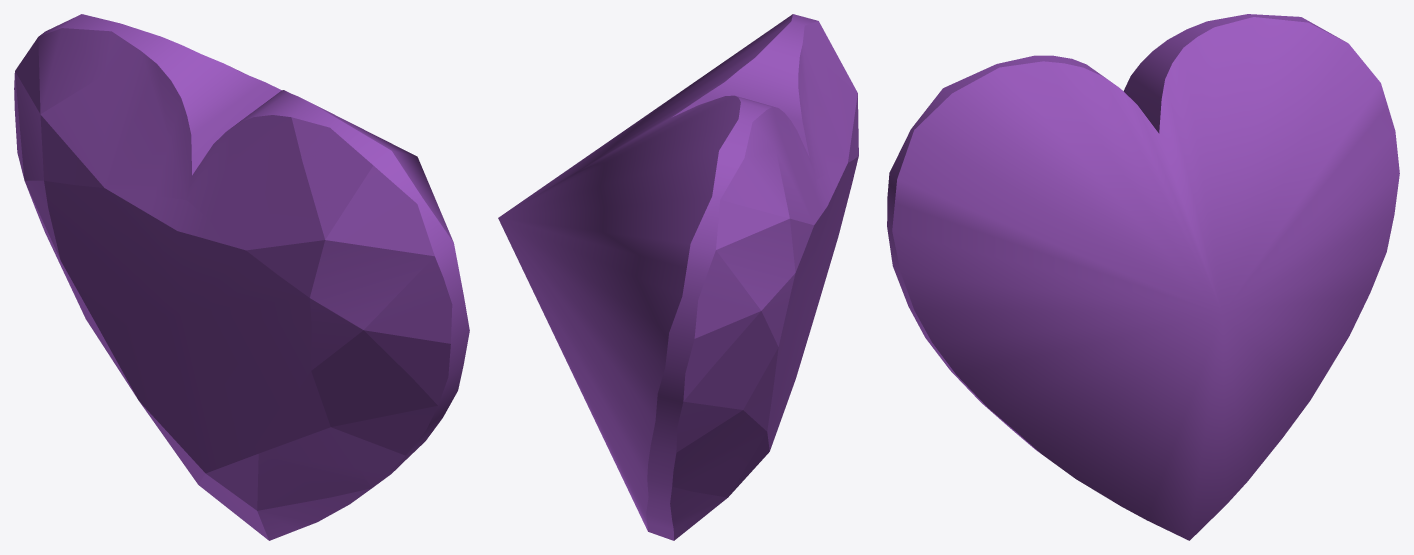
The model's file is TL5_8shapes_heart_Classic_Stone.001 2.glb.
3 views of the same model, side by side, from view 1: azimuth 30°, elevation 25°; view 2: azimuth 150°, elevation 25°; view 3: azimuth 270°, elevation 25° (orthographic). The views are drawn at different scales.
Parts seen in each view (by area): view 1: TL5_8shapes_heart_Classic_Stone.001; view 2: TL5_8shapes_heart_Classic_Stone.001; view 3: TL5_8shapes_heart_Classic_Stone.001.
Boxes of the visible parts, left/top/right/bottom form: TL5_8shapes_heart_Classic_Stone.001: left=14, top=14, right=469, bottom=540; TL5_8shapes_heart_Classic_Stone.001: left=498, top=14, right=858, bottom=540; TL5_8shapes_heart_Classic_Stone.001: left=887, top=14, right=1399, bottom=540.
Size of the model in its own units: 0.3331 by 0.4702 by 0.4642.
